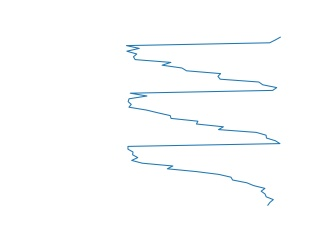distributaryMouthBar: (121, 37, 284, 207)
